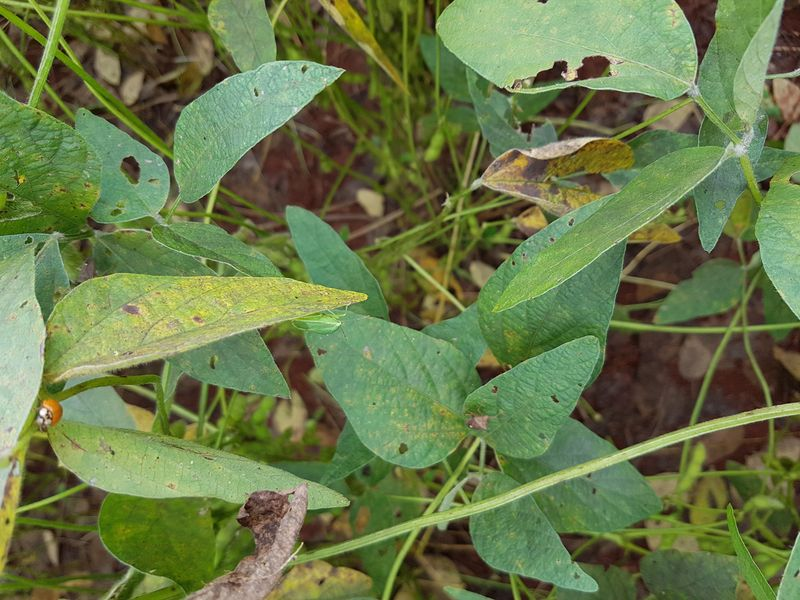Coccinellidae: (20, 389, 78, 444)
Euschistus_heros_adulto: (453, 403, 503, 444)
